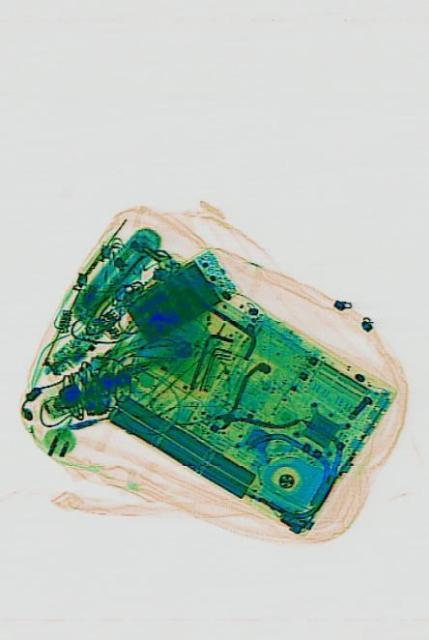Pliers: (202, 351, 299, 462)
